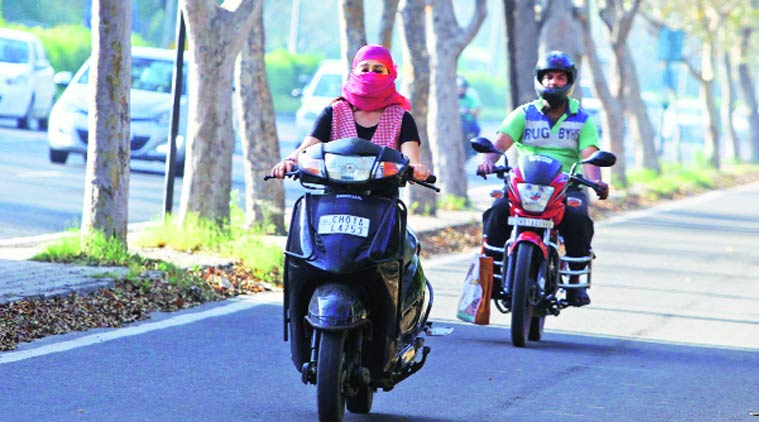helmet: (534, 53, 580, 102)
